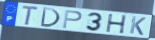3: (86, 11, 103, 32)
D: (39, 7, 61, 29)
H: (105, 14, 128, 35)
K: (129, 15, 147, 36)
P: (61, 9, 83, 30)
T: (21, 5, 40, 27)
